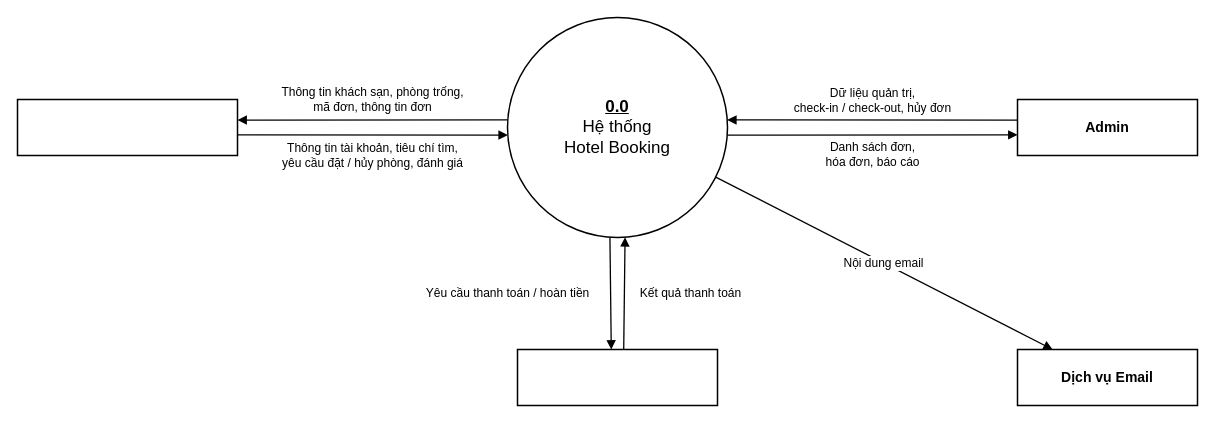
Image size: 1216x424. Some labels were removed from this diagram. The shapes that lost their labels are listed below. From the top down, each one's centre as x and y in pixels, then its label:
the point at 127,127: Khách hàng (Guest / User)
the point at 617,377: Cổng thanh toán
